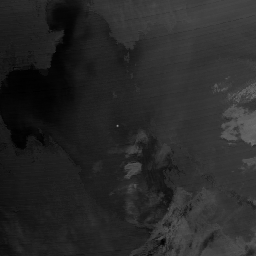Target: (115, 123, 121, 128)
